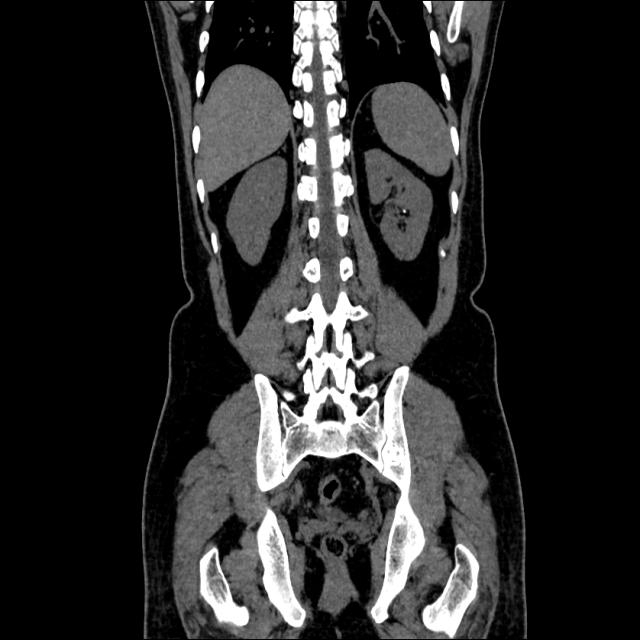kidneystone: (402, 208, 409, 216)
